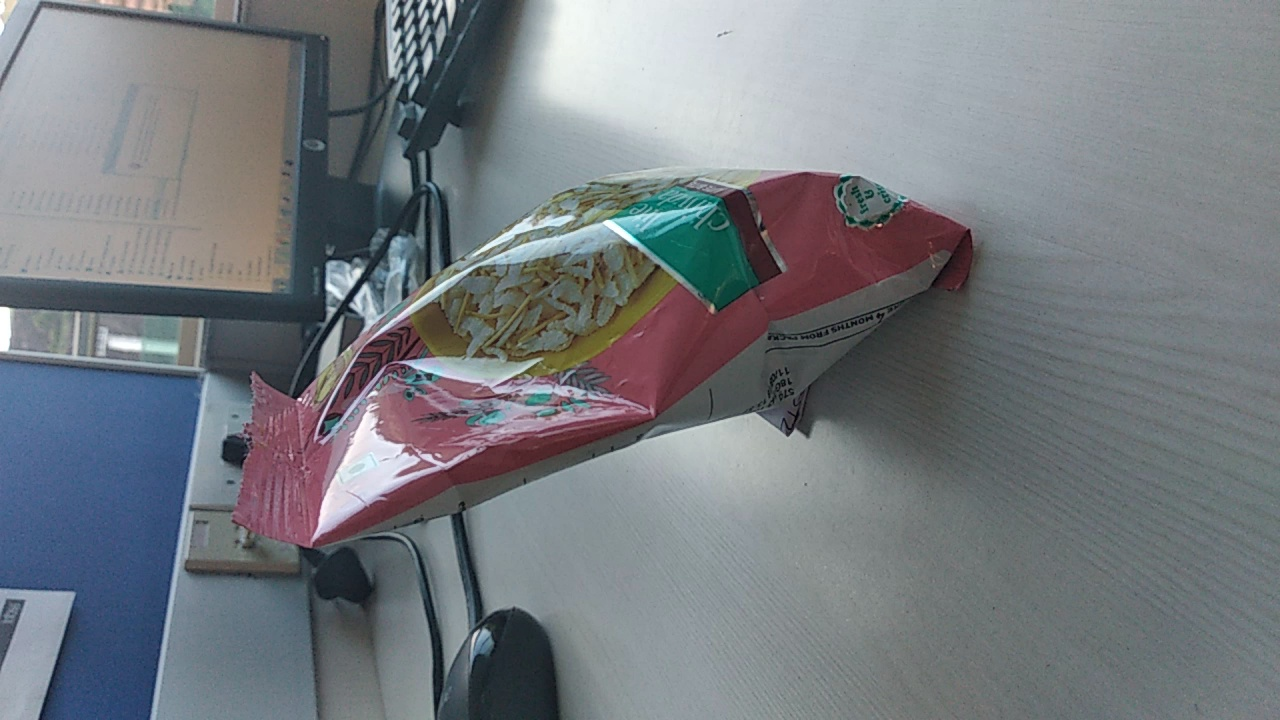liteSnack: (246, 161, 973, 554)
